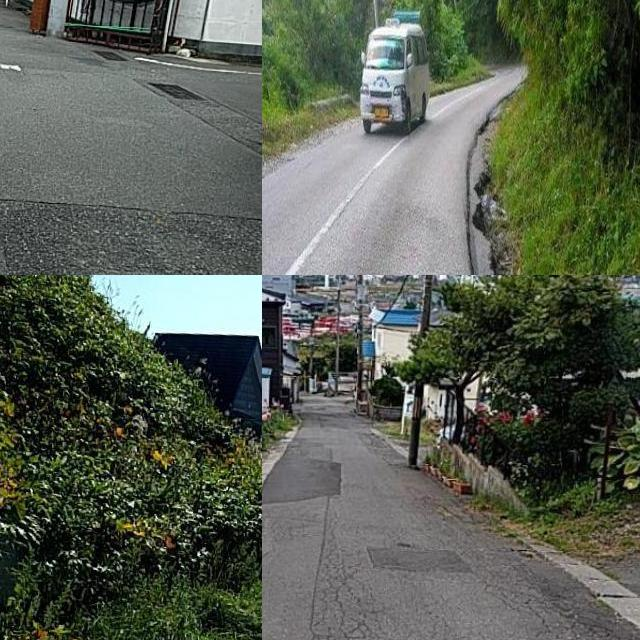Pinggir: (451, 143, 515, 275)
Sambungan: (0, 200, 262, 275), (262, 456, 348, 506), (365, 544, 470, 571)
